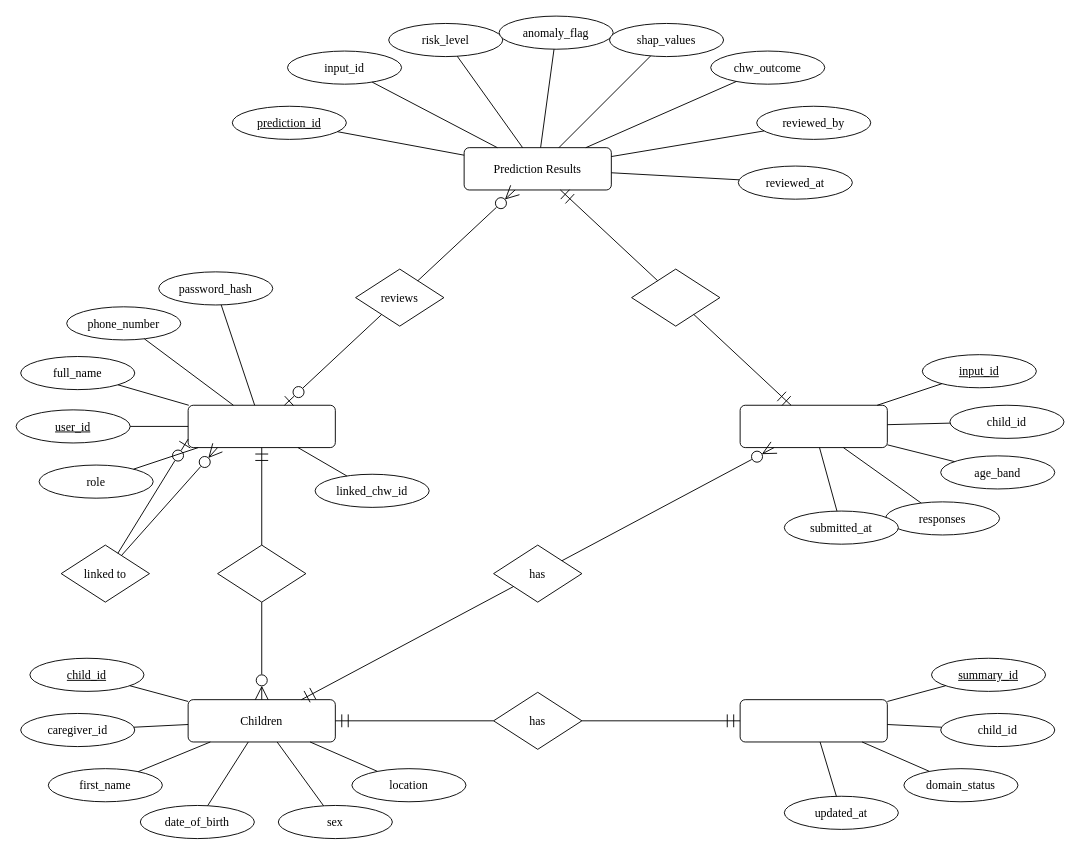
Image size: 1080x855. Some labels were removed from this diagram. Here are the shapes that lost their labels. From the top down, the centre of each, then its label:
At (x=675, y=297): "produces".
At (x=261, y=426): "Users".
At (x=813, y=426): "Caregiver Inputs".
At (x=261, y=573): "cares for".
At (x=813, y=720): "Milestone Summaries".
